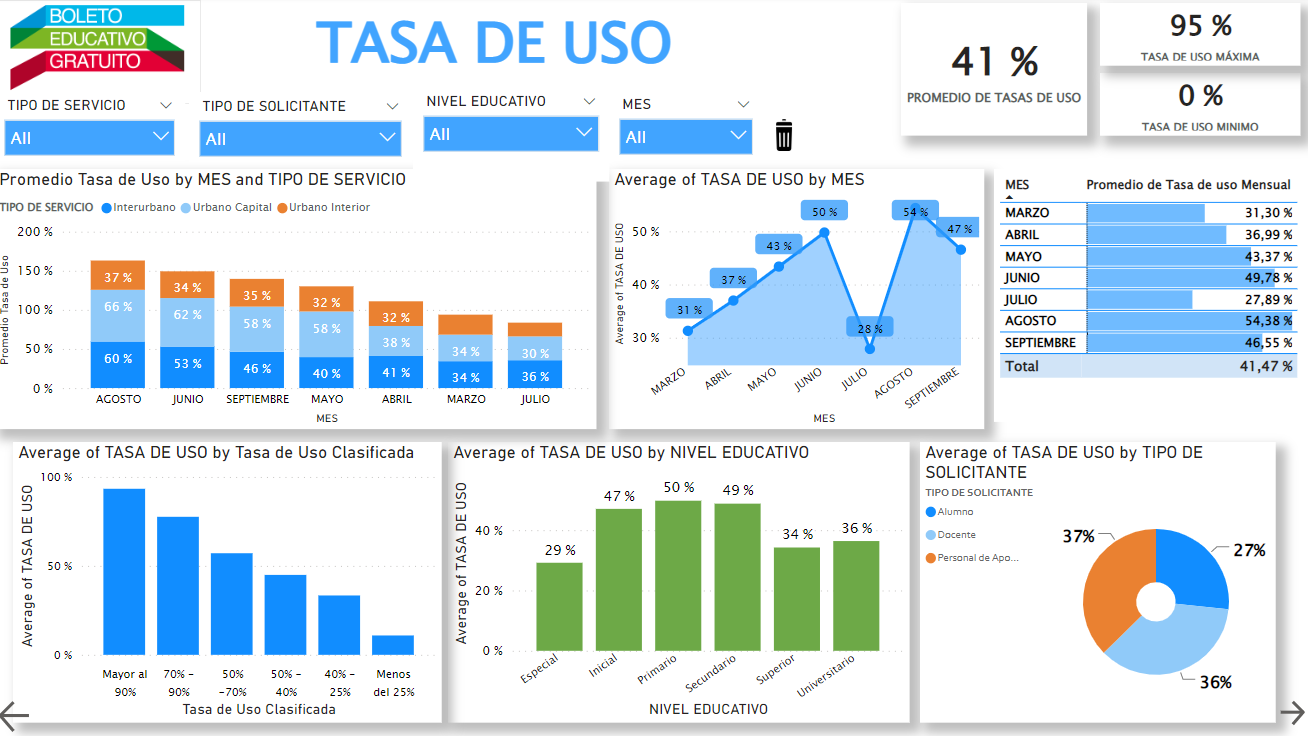

The page's visual inventory and layout, read from the dashboard file:
{"tool":"powerbi","page":{"name":"TASA DE USO","canvas":[1280,720],"ordinal":6},"visuals":[{"type":"areaChart","fields":{"Y":["Avg(TasadeUso.TASA DE USO)"],"Category":["TasadeUso.MES"]},"box":[598,167,365,253],"z":0},{"type":"image","box":[0,2.7,200.9,101.8],"z":1000},{"type":"textbox","box":[304.5,0,364.5,91.8],"z":2000},{"type":"clusteredColumnChart","fields":{"Category":["TasadeUso.NIVEL EDUCATIVO"],"Y":["Avg(TasadeUso.TASA DE USO)"]},"box":[441.6,432.8,449.4,273.3],"z":3000},{"type":"columnChart","fields":{"Y":["Avg(TasadeUsoxMes.Promedio Tasa de Uso)"],"Category":["TasadeUsoxMes.MES"],"Series":["TasadeUsoxMes.TIPO DE SERVICIO"]},"box":[0,167,586,253],"z":4000},{"type":"donutChart","fields":{"Y":["Avg(TasadeUso.TASA DE USO)"],"Series":["TasadeUso.TIPO DE SOLICITANTE"]},"box":[900.4,432.7,346,273.3],"z":5000},{"type":"clusteredColumnChart","fields":{"Category":["TasadeUso.Tasa de Uso Clasificada"],"Y":["Avg(TasadeUso.TASA DE USO)"]},"box":[18,433,417,273],"z":6000},{"type":"card","fields":{"Values":["MEDIAS JOACO.PROMEDIO DE TASAS DE USO"]},"box":[882,6,181,129],"z":7000},{"type":"slicer","fields":{"Values":["TasadeUso.TIPO DE SOLICITANTE"]},"box":[190,92,217,68],"z":8000},{"type":"card","fields":{"Values":["MEDIDAS.Promedio de TASA DE USO mín. por MES"]},"box":[1076,74,195,61],"z":9000},{"type":"tableEx","fields":{"Values":["TasadeUso.MES","MEDIDAS.Promedio de Tasa de uso Mensual"]},"box":[973,167,307,246],"z":10000},{"type":"slicer","fields":{"Values":["TasadeUso.MES"]},"box":[598,90,150,68],"z":11000},{"type":"image","box":[748,114,41,41],"z":12000},{"type":"card","fields":{"Values":["MEDIDAS.MAX_tasadeUso"]},"box":[1076,6,195,61],"z":13000},{"type":"actionButton","box":[1246.4,678.8,33.3,35],"z":14000},{"type":"slicer","fields":{"Values":["TasadeUso.TIPO DE SERVICIO"]},"box":[0,91.8,186.4,67.8],"z":15000},{"type":"slicer","fields":{"Values":["TasadeUso.NIVEL EDUCATIVO"]},"box":[408,87.5,190.6,91.8],"z":16000},{"type":"actionButton","box":[0,680,100,40],"z":17000}]}

Visuals, with their boxes in screenshot pixels (x1, y1, x2, y2), scaled from the page's 1280x720 canvas onto the 1308x736 screenshot:
areaChart - Avg(TasadeUso.TASA DE USO) x TasadeUso.MES: region(611, 171, 984, 429)
image: region(0, 3, 205, 107)
textbox: region(311, 0, 684, 94)
clusteredColumnChart - TasadeUso.NIVEL EDUCATIVO x Avg(TasadeUso.TASA DE USO): region(451, 442, 910, 722)
columnChart - Avg(TasadeUsoxMes.Promedio Tasa de Uso) x TasadeUsoxMes.MES: region(0, 171, 599, 429)
donutChart - Avg(TasadeUso.TASA DE USO) x TasadeUso.TIPO DE SOLICITANTE: region(920, 442, 1274, 722)
clusteredColumnChart - TasadeUso.Tasa de Uso Clasificada x Avg(TasadeUso.TASA DE USO): region(18, 443, 445, 722)
card - MEDIAS JOACO.PROMEDIO DE TASAS DE USO: region(901, 6, 1086, 138)
slicer - TasadeUso.TIPO DE SOLICITANTE: region(194, 94, 416, 164)
card - MEDIDAS.Promedio de TASA DE USO mín. por MES: region(1100, 76, 1299, 138)
tableEx - TasadeUso.MES x MEDIDAS.Promedio de Tasa de uso Mensual: region(994, 171, 1307, 422)
slicer - TasadeUso.MES: region(611, 92, 764, 162)
image: region(764, 117, 806, 158)
card - MEDIDAS.MAX_tasadeUso: region(1100, 6, 1299, 68)
actionButton: region(1274, 694, 1307, 730)
slicer - TasadeUso.TIPO DE SERVICIO: region(0, 94, 190, 163)
slicer - TasadeUso.NIVEL EDUCATIVO: region(417, 89, 612, 183)
actionButton: region(0, 695, 102, 735)
